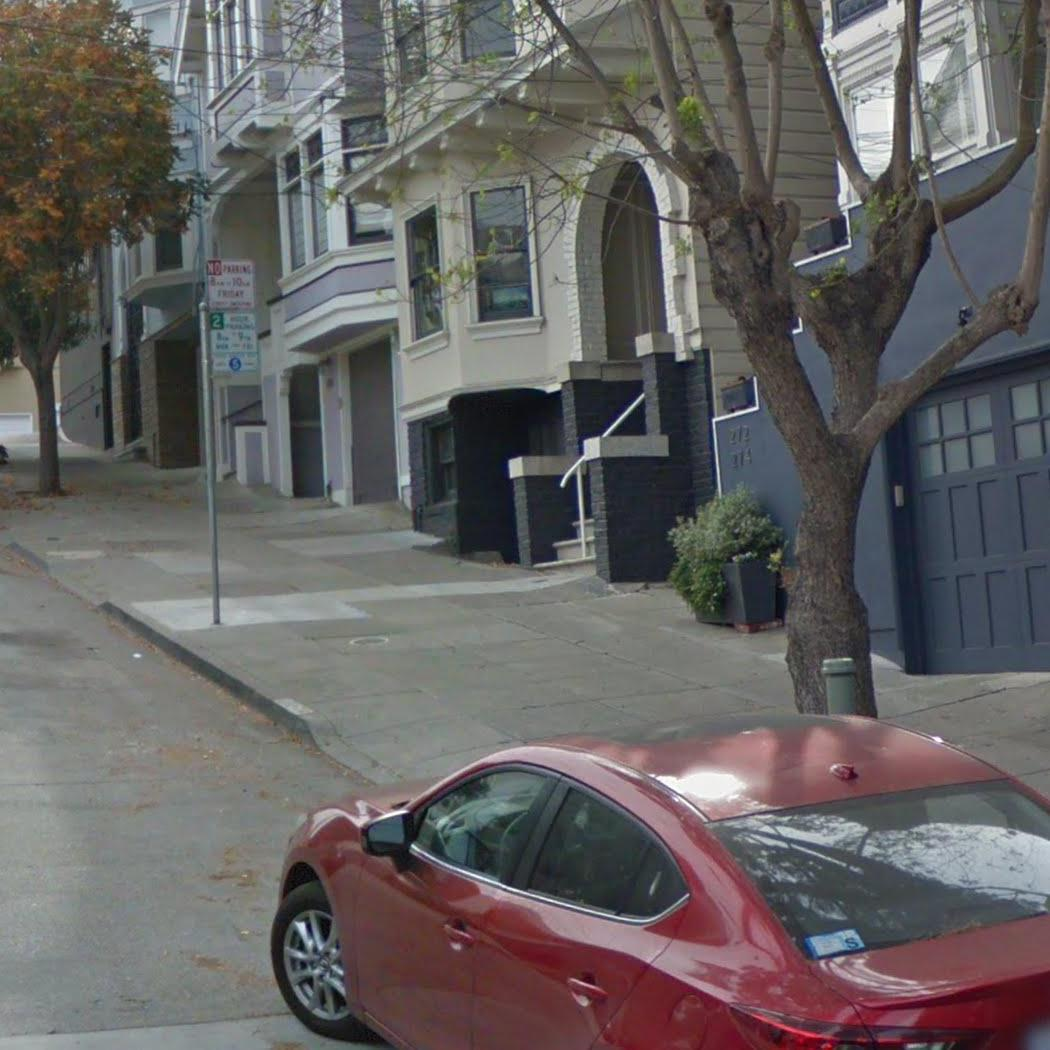2 Hour Parking: (204, 308, 263, 379)
No Parking: (199, 255, 259, 313)
